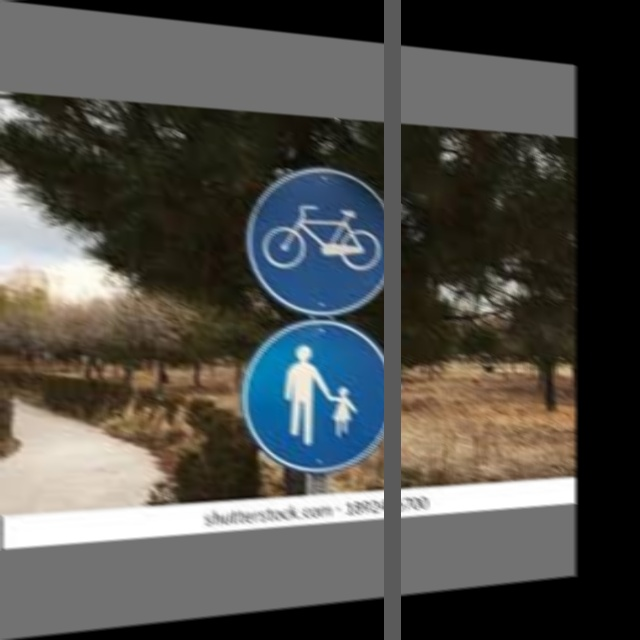Compulsory_Cycle_Track: (245, 163, 397, 312)
